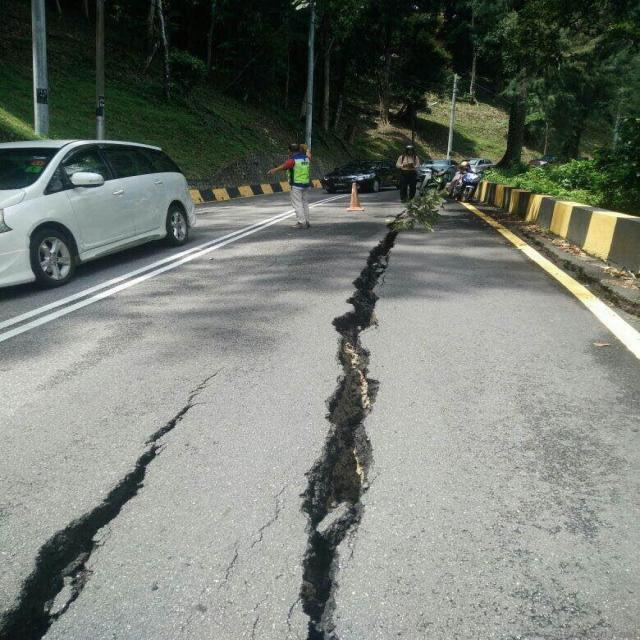Pothole: (297, 218, 640, 640)
